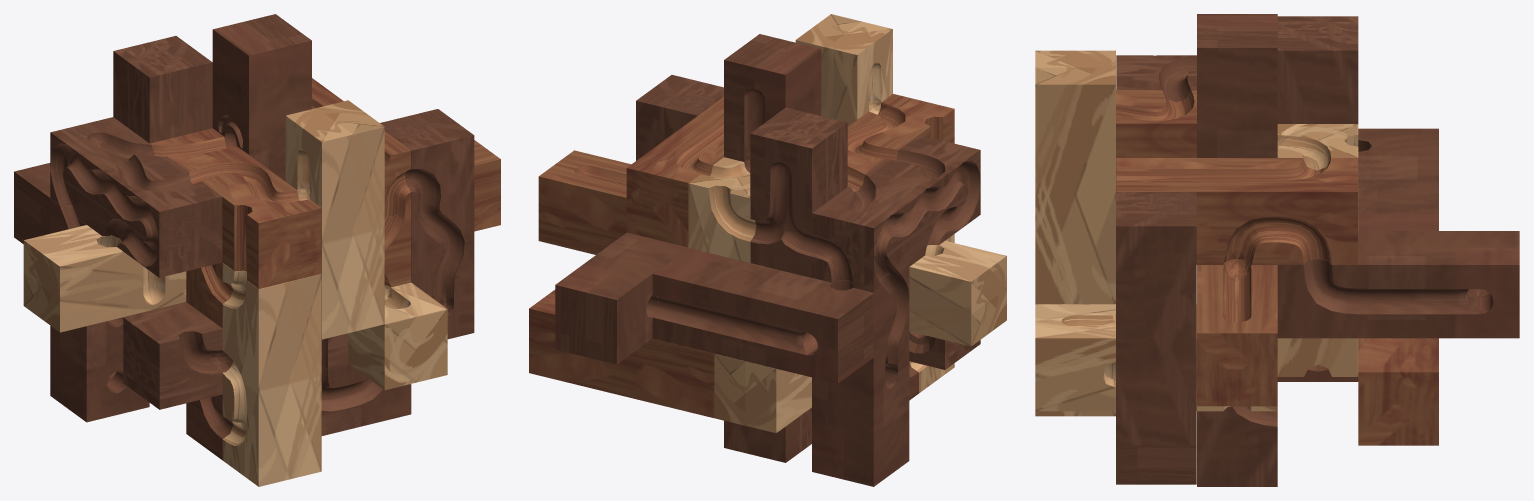
The model's file is puzzle.glb.
The picture shows the model from 3 angles, left to right: view 1: azimuth 30°, elevation 25°; view 2: azimuth 150°, elevation 25°; view 3: azimuth 270°, elevation 25°; orthographic projection. The views are drawn at different scales.
Parts seen in each view (by area): view 1: geo.020, geo.019, geo.016, geo.017, geo.015, geo.002, geo.004, geo.011, geo.007, geo.006, geo.008, geo.010 (+4 smaller); view 2: geo.018, geo.019, geo.006, geo.007, geo.014, geo.001, geo.004, geo.002, geo.013, geo.005, geo.016, geo.012 (+6 smaller); view 3: geo.014, geo.016, geo.015, geo.013, geo.002, geo.005, geo.008, geo.007, geo.001, geo.018, geo.003, geo (+5 smaller).
Part boxes in pixels (bbox=[...]): geo.020: bbox=[222, 263, 321, 486]; geo.019: bbox=[50, 117, 222, 277]; geo.016: bbox=[285, 100, 384, 339]; geo.017: bbox=[150, 128, 321, 288]; geo.015: bbox=[380, 109, 474, 339]; geo.002: bbox=[212, 14, 311, 181]; geo.004: bbox=[23, 225, 186, 332]; geo.011: bbox=[123, 302, 348, 409]; geo.007: bbox=[113, 36, 212, 143]; geo.006: bbox=[50, 198, 149, 422]; geo.008: bbox=[348, 282, 447, 390]; geo.010: bbox=[186, 364, 411, 460]; geo.018: bbox=[652, 248, 873, 383]; geo.019: bbox=[812, 135, 980, 292]; geo.006: bbox=[812, 267, 909, 486]; geo.007: bbox=[750, 107, 847, 277]; geo.014: bbox=[555, 232, 687, 364]; geo.001: bbox=[529, 289, 714, 418]; geo.004: bbox=[909, 241, 1006, 346]; geo.002: bbox=[724, 34, 821, 172]; geo.013: bbox=[626, 97, 723, 247]; geo.005: bbox=[538, 150, 630, 254]; geo.016: bbox=[795, 14, 892, 126]; geo.012: bbox=[714, 354, 811, 433]; geo.014: bbox=[1277, 231, 1519, 338]; geo.016: bbox=[1035, 50, 1115, 303]; geo.015: bbox=[1116, 192, 1196, 445]; geo.013: bbox=[1116, 158, 1357, 264]; geo.002: bbox=[1197, 14, 1277, 157]; geo.005: bbox=[1197, 259, 1277, 406]; geo.008: bbox=[1035, 304, 1277, 411]; geo.007: bbox=[1277, 16, 1358, 123]; geo.001: bbox=[1358, 338, 1438, 445]; geo.018: bbox=[1358, 128, 1438, 230]; geo.003: bbox=[1197, 406, 1277, 486]; geo: bbox=[1277, 124, 1358, 376].
Size of the model in its own units: 0.2798 by 0.2398 by 0.2398.
Materials: 4 (4 with a texture image).
